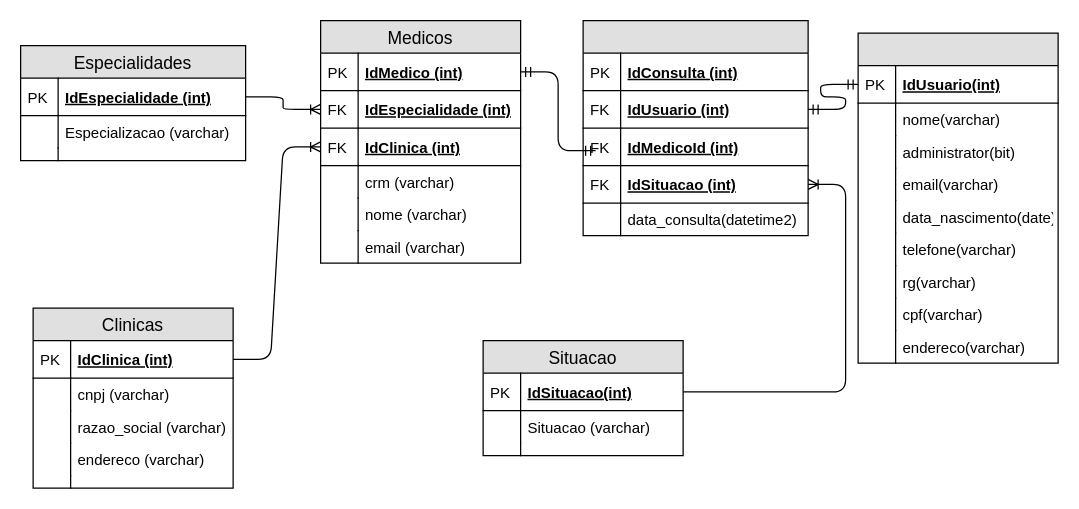
This 1079x509 diagram has some shape labels left out. Here are the shapes that lost their labels. From the top down, the box of each, then its label:
(582, 19, 808, 236): Consultas
(857, 32, 1058, 363): Usuarios
